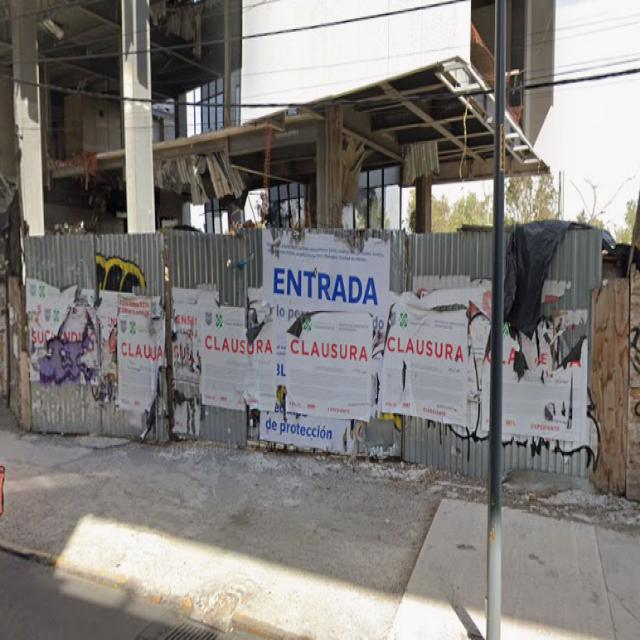stamps: (382, 303, 467, 427), (287, 312, 372, 420), (200, 304, 275, 409)
